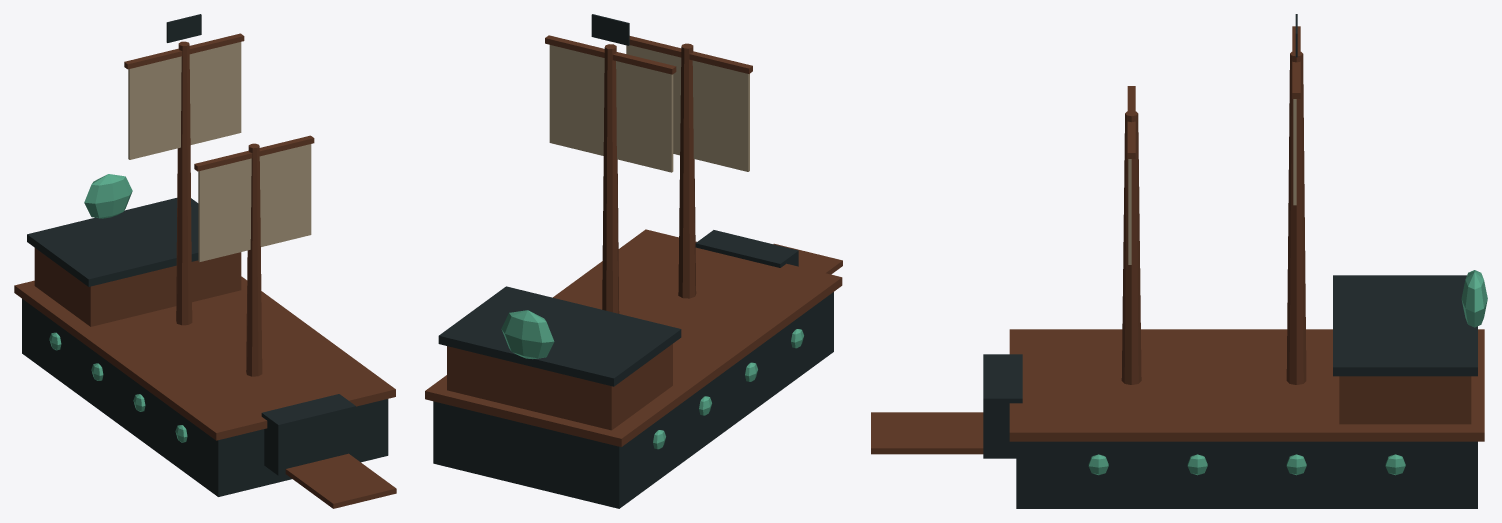
The model's file is ParkParkGhostShip.obj.
3 renders of one model, left to right at view 1: azimuth 30°, elevation 25°; view 2: azimuth 150°, elevation 25°; view 3: azimuth 270°, elevation 25°, orthographic. The views are drawn at different scales.
Visible parts, largest first — view 1: ParkParkGhostShip; view 2: ParkParkGhostShip; view 3: ParkParkGhostShip.
Part boxes in pixels (x1=…): ParkParkGhostShip: x1=14, y1=14, x2=396, y2=508; ParkParkGhostShip: x1=425, y1=14, x2=842, y2=508; ParkParkGhostShip: x1=871, y1=14, x2=1487, y2=508.
Bounding box in the file's own units: 7.5 × 14.6 × 18.7.
